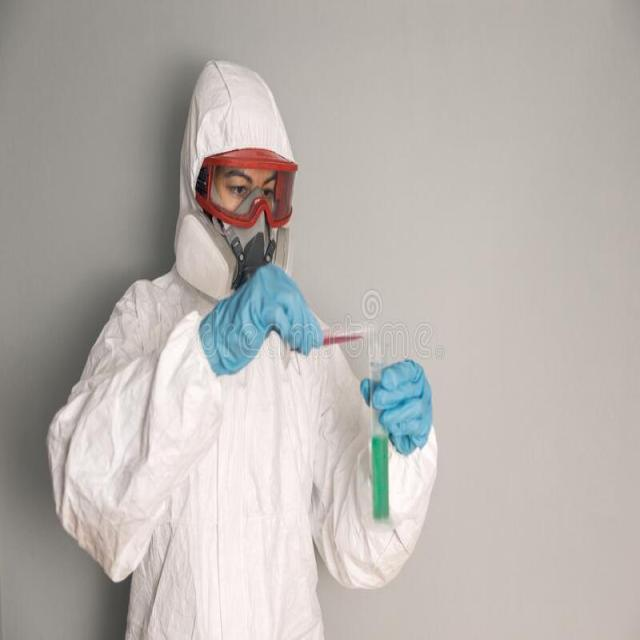Gloves: (201, 259, 326, 394), (362, 350, 435, 467)
